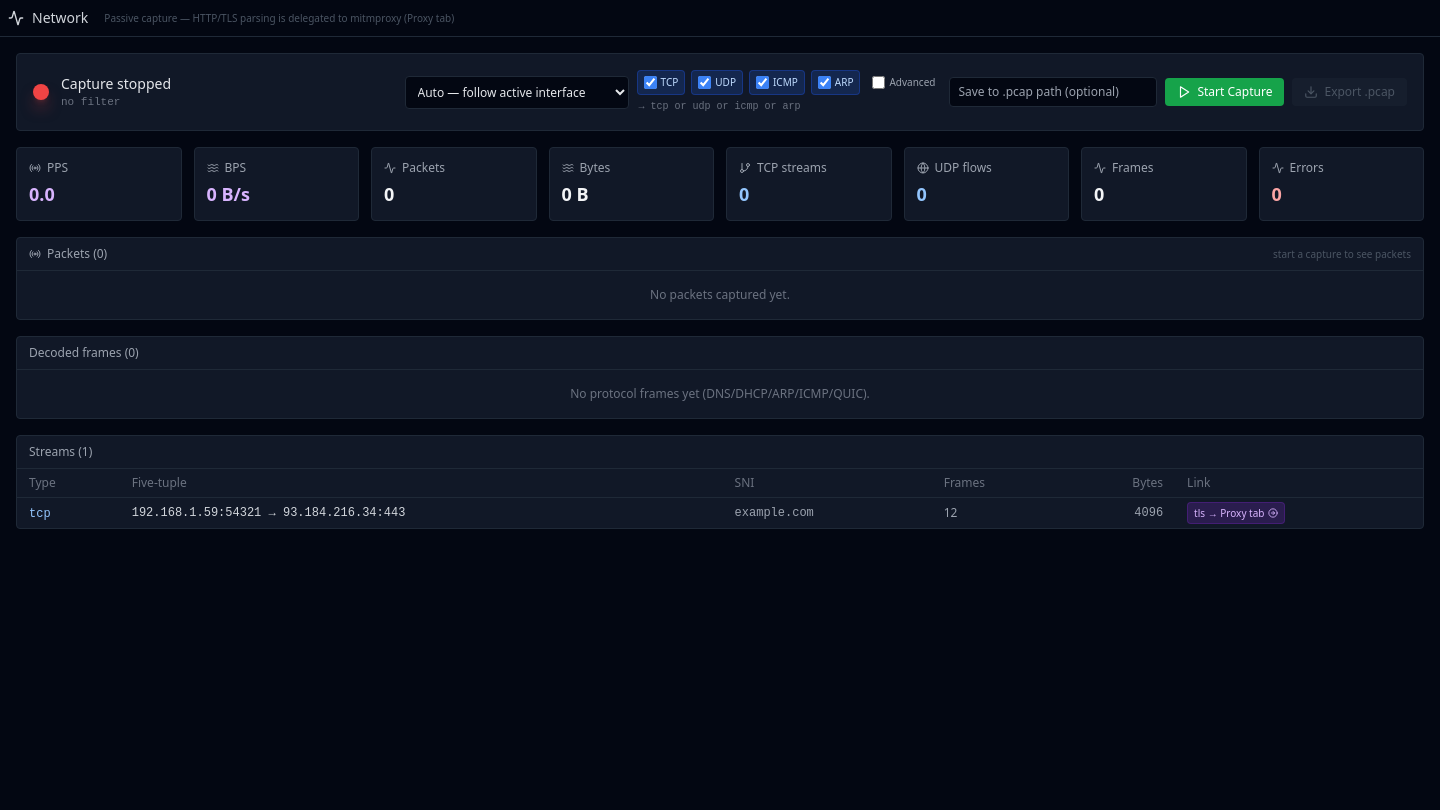
Test: Network — MITM stream integration (Proxy link + stream detail) › shows an error in the stream modal when the frames request fails
Double-click the text "example.com" at (175,513), box 17,498 -> 1423,528
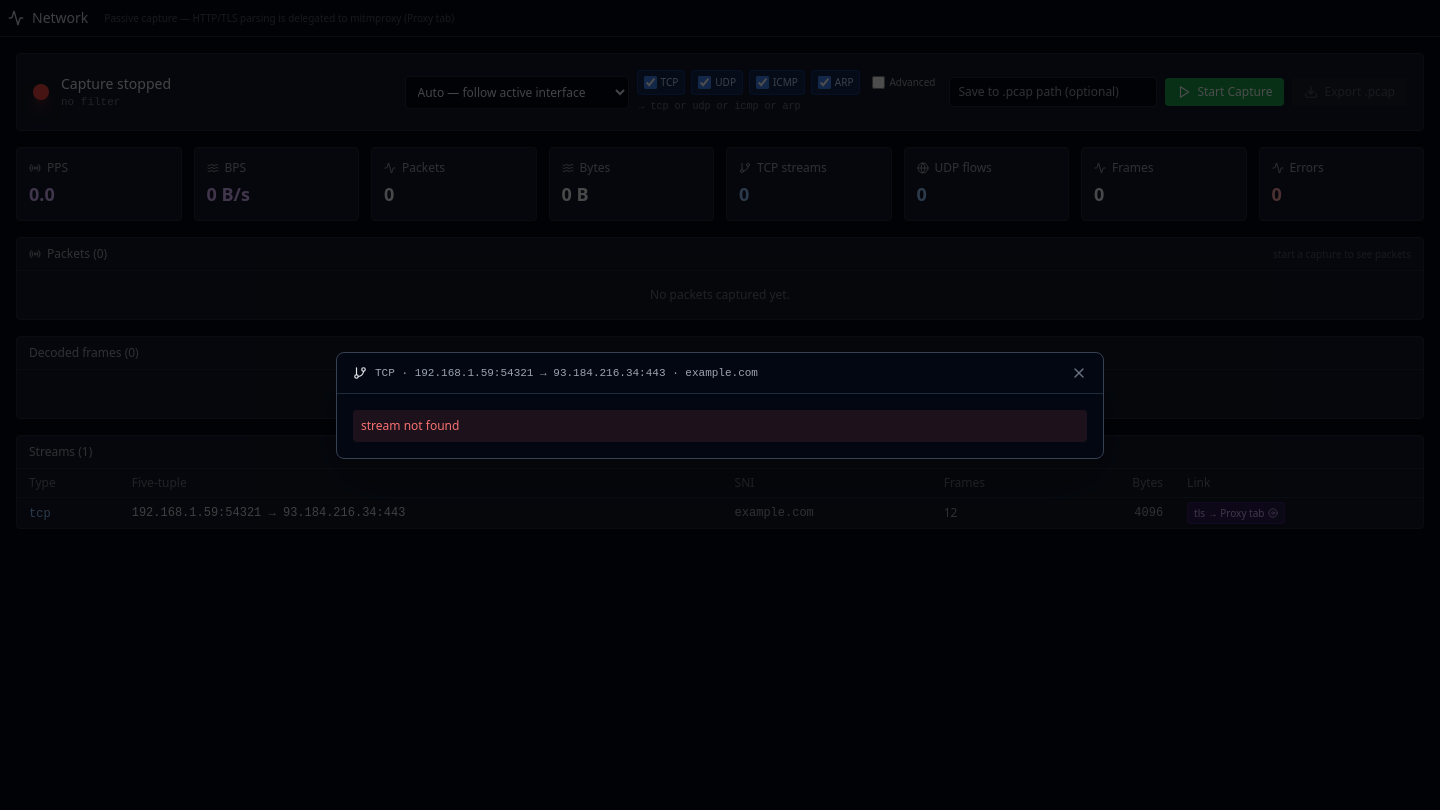
Now the text "stream not found" is shown, box 353,410 -> 1087,442
